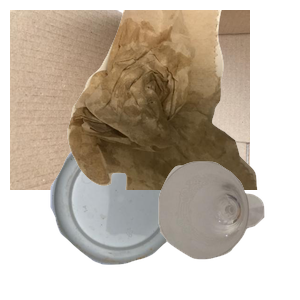cardboard: (10, 10, 250, 190)
glass: (156, 159, 300, 300)
plastic: (48, 132, 224, 300)
trash: (65, 10, 300, 190)
